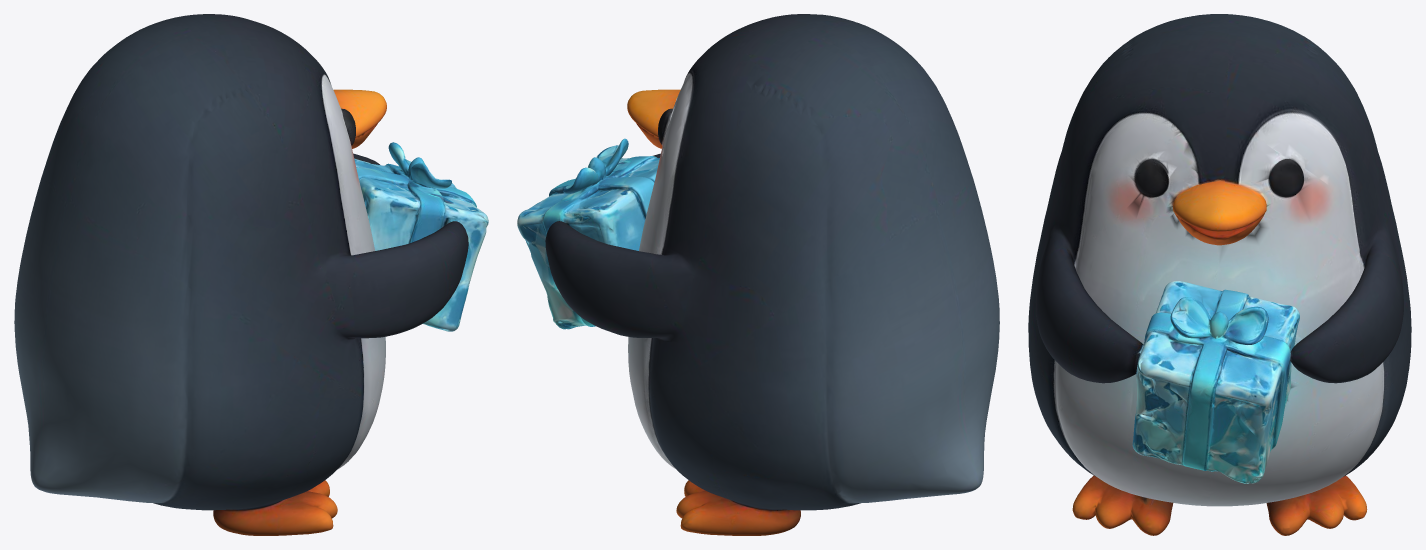
Rendered from box-penguin-hug-diet.glb.
3 views of the same model, side by side, from view 1: azimuth 30°, elevation 25°; view 2: azimuth 150°, elevation 25°; view 3: azimuth 270°, elevation 25° (orthographic).
Visible parts, largest first — view 1: tripo_node_273ef33f-2bef-4a51-a37f-3696a3546466; view 2: tripo_node_273ef33f-2bef-4a51-a37f-3696a3546466; view 3: tripo_node_273ef33f-2bef-4a51-a37f-3696a3546466.
Boxes of the visible parts, x1,y1,x2,y2 form: tripo_node_273ef33f-2bef-4a51-a37f-3696a3546466: (14, 14, 488, 535); tripo_node_273ef33f-2bef-4a51-a37f-3696a3546466: (517, 14, 999, 535); tripo_node_273ef33f-2bef-4a51-a37f-3696a3546466: (1028, 14, 1411, 535).
Size of the model in its own units: 0.9692 by 0.9794 by 0.7252.
1 material, 1 textured.
